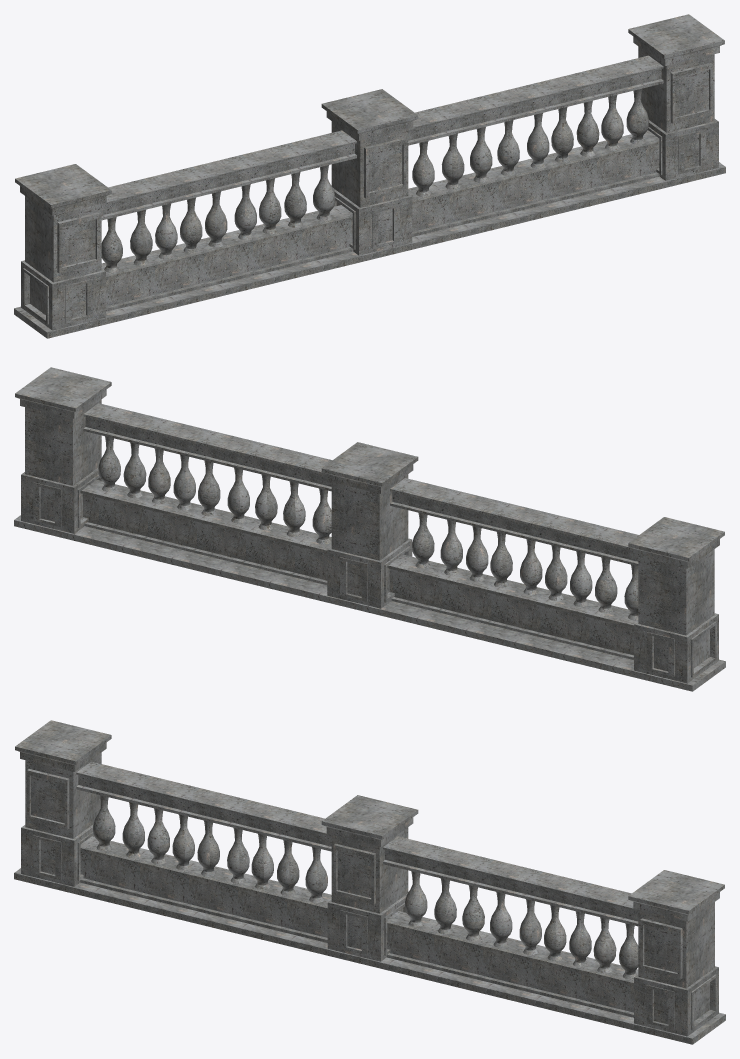
The model's file is valla.obj.
3 views of the same model, one above another, from view 1: azimuth 30°, elevation 25°; view 2: azimuth 150°, elevation 25°; view 3: azimuth 330°, elevation 25° (orthographic).
Visible parts, largest first — view 1: objFence; view 2: objFence; view 3: objFence.
Part boxes in pixels (bbox=[...]): objFence: bbox=[14, 14, 725, 338]; objFence: bbox=[14, 367, 725, 691]; objFence: bbox=[14, 720, 725, 1044].
Bounding box in the file's own units: 10.61 × 2.01 × 0.975.
Materials: 1 (1 with a texture image).
